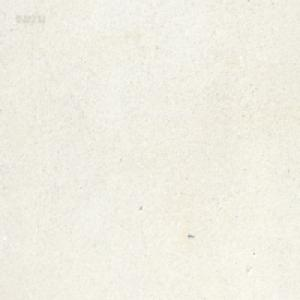Nail: (187, 232, 194, 238)
